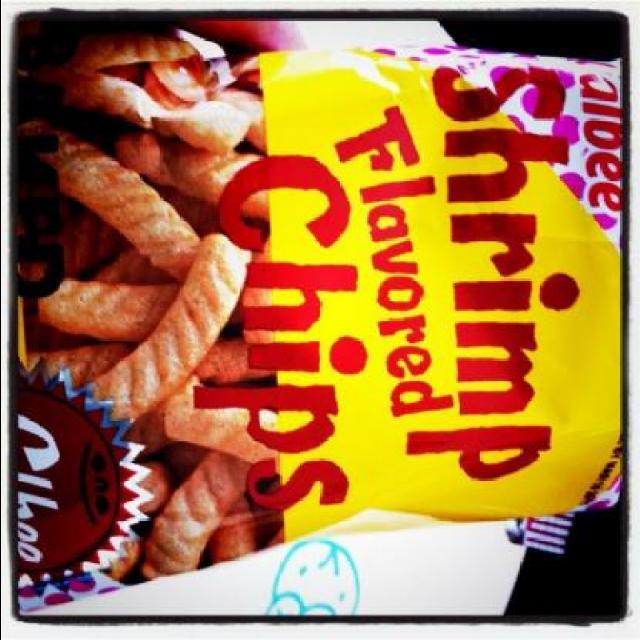Chips: (33, 36, 629, 562)
